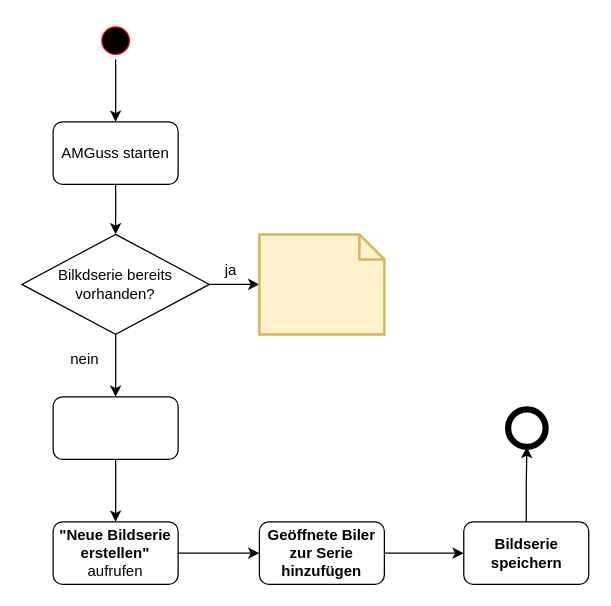
Some shapes in this 611 by 606 pixel diagram are drawn without their labels. The shapes that lost their labels are listed below. From the top down, each one's centre as x and y in pixels, then its label:
[321,283]: Weiter mit Lamellengraphit-Messung...
[115,427]: Bilder für Serie in AMGuss öffnen
